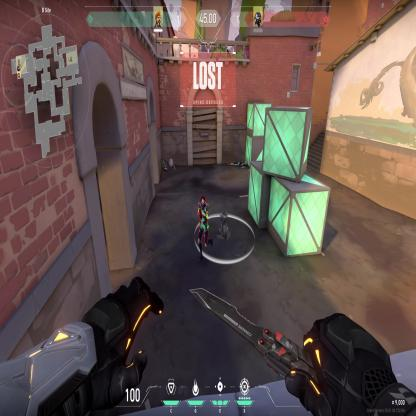enemy: (194, 194, 214, 263)
